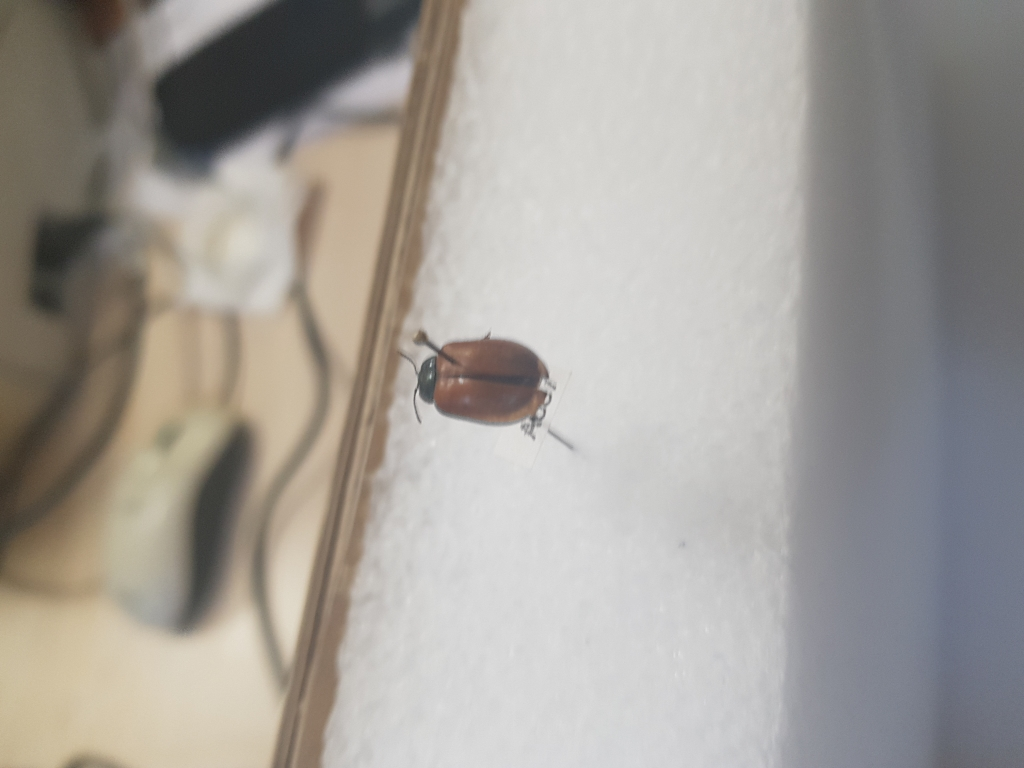Chrysomela_populi: (388, 336, 551, 435)
